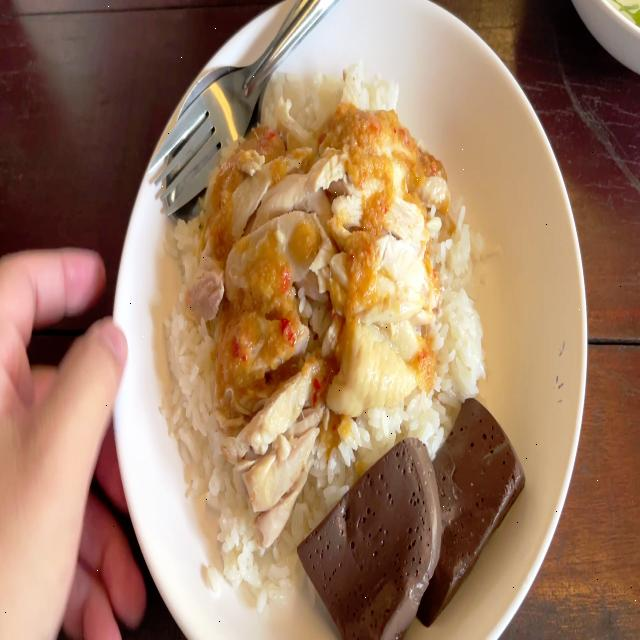boiled_chicken: (222, 142, 412, 426)
boiled_chicken_blood_jelly: (305, 438, 433, 625), (426, 397, 512, 596)
chicken_rice: (170, 68, 520, 624)
